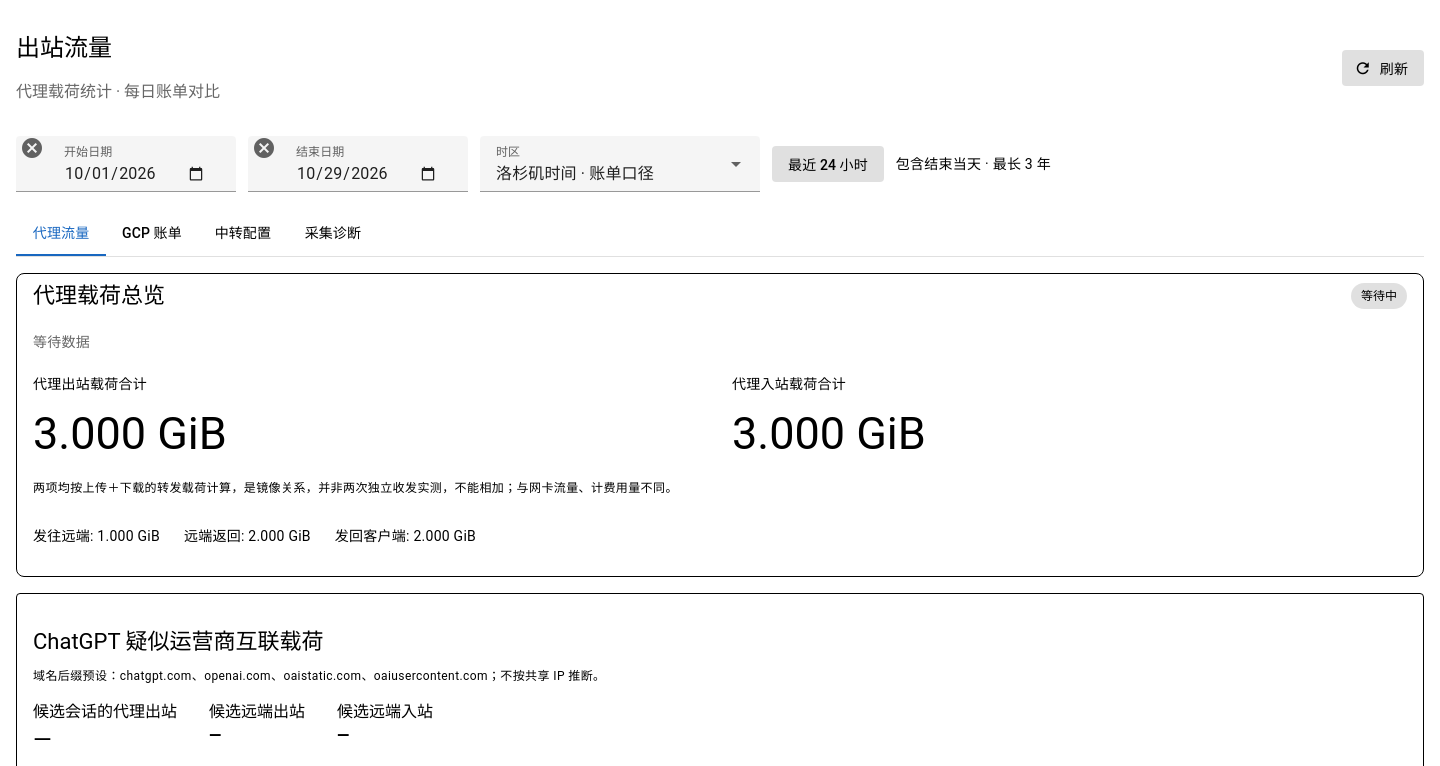
Test case: Chinese outbound page › shows mirrored proxy payload totals, keeps network details out of the main view and retains setup tabs
Expected: the text with test id "proxy-egress" reads "3.000 GiB", [33,407,227,460]
Expected: the text with test id "proxy-ingress" reads "3.000 GiB", [732,407,926,460]
Click the tab "GCP 账单" at (152, 232), box [106,208,198,256]
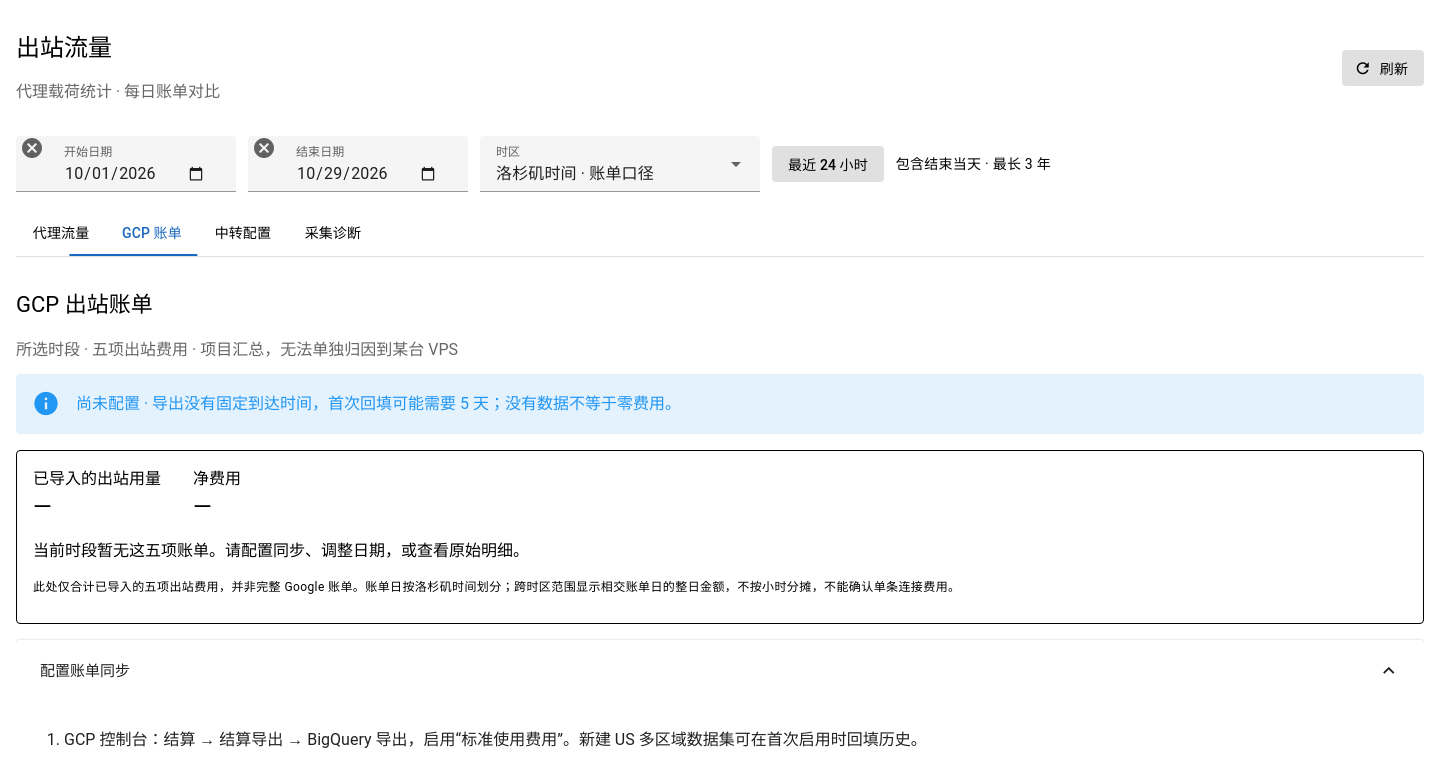
Now the text "尚未配置" is shown, box [76,394,681,413]
Click the tab "中转配置" at (243, 232), box [198,208,288,256]
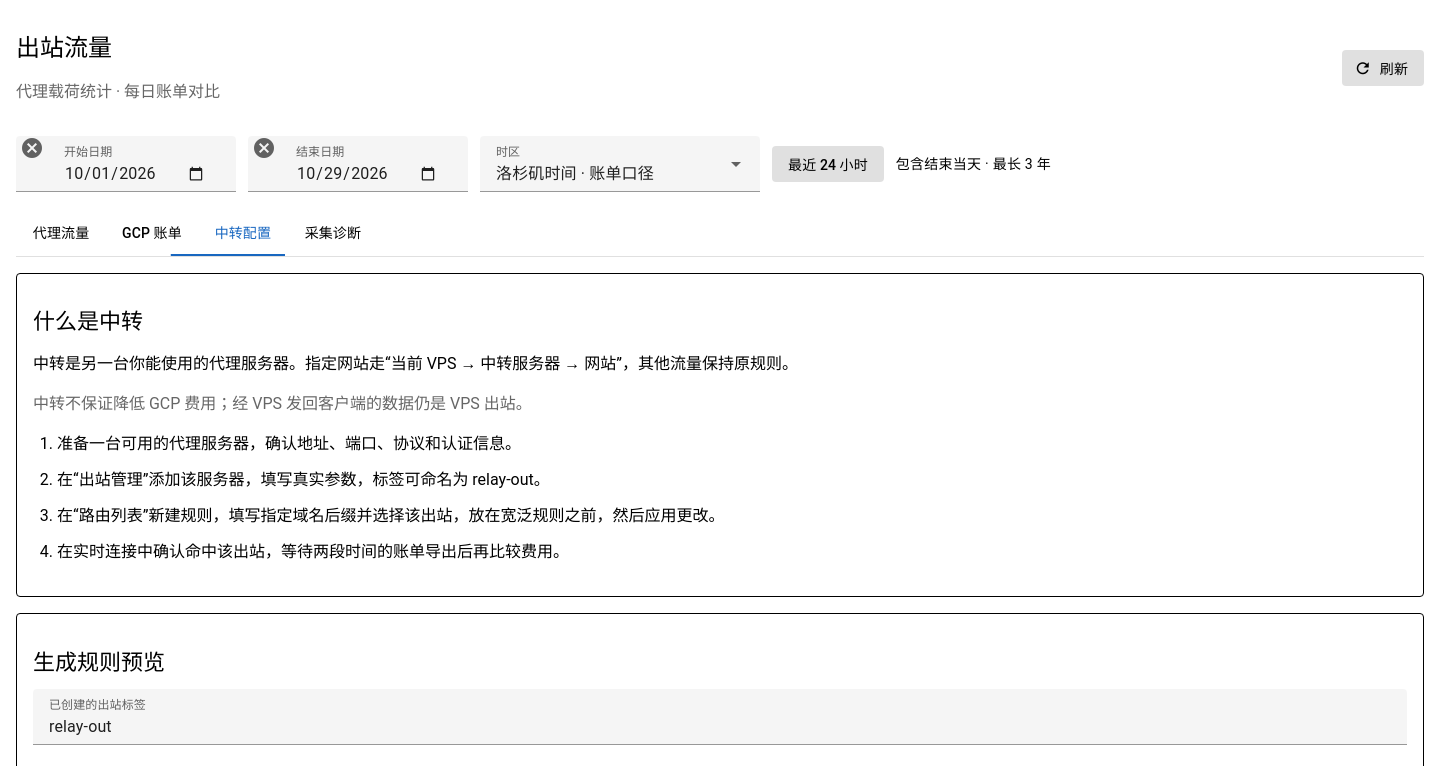
Now the text "中转不保证降低 GCP 费用" is shown, box [33,394,532,413]
Click the tab "采集诊断" at (333, 232), box [288,208,378,256]
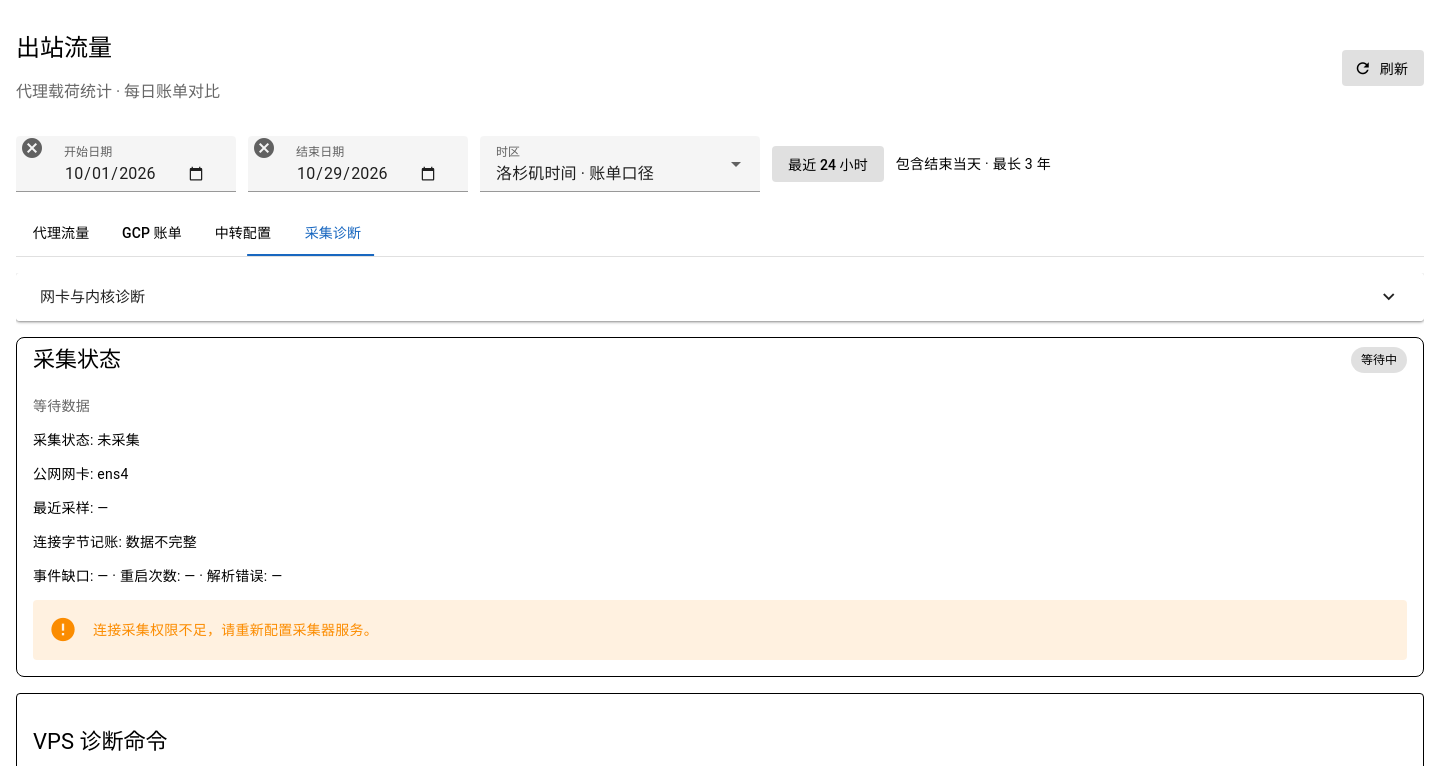
Now the text "连接采集权限不足" is shown, box [93,622,378,638]
